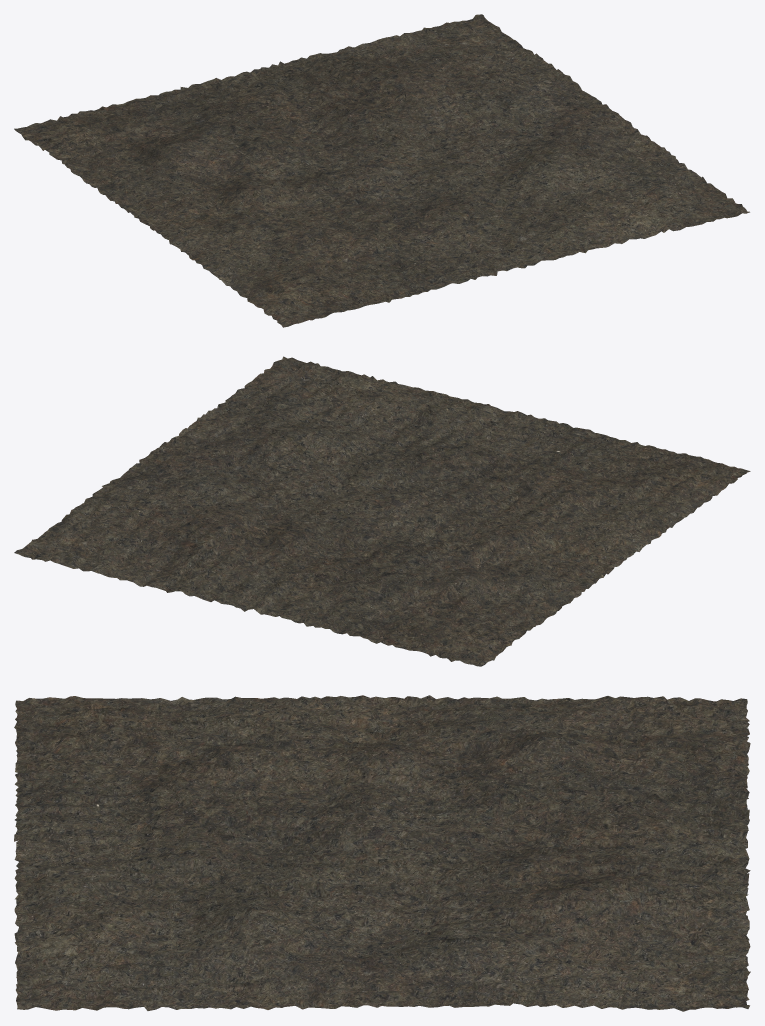
Rendered from 石の壁.fbx.
3 views of the same model, one above another, from view 1: azimuth 30°, elevation 25°; view 2: azimuth 150°, elevation 25°; view 3: azimuth 270°, elevation 25° (orthographic). The views are drawn at different scales.
Visible parts, largest first — view 1: グリッド.003; view 2: グリッド.003; view 3: グリッド.003.
Part boxes in pixels (bbox=[...]): グリッド.003: bbox=[14, 14, 749, 327]; グリッド.003: bbox=[14, 356, 750, 666]; グリッド.003: bbox=[14, 695, 750, 1011].
Size of the model in its own units: 15.64 by 0.6747 by 15.64.
Materials: 1 (1 with a texture image).
